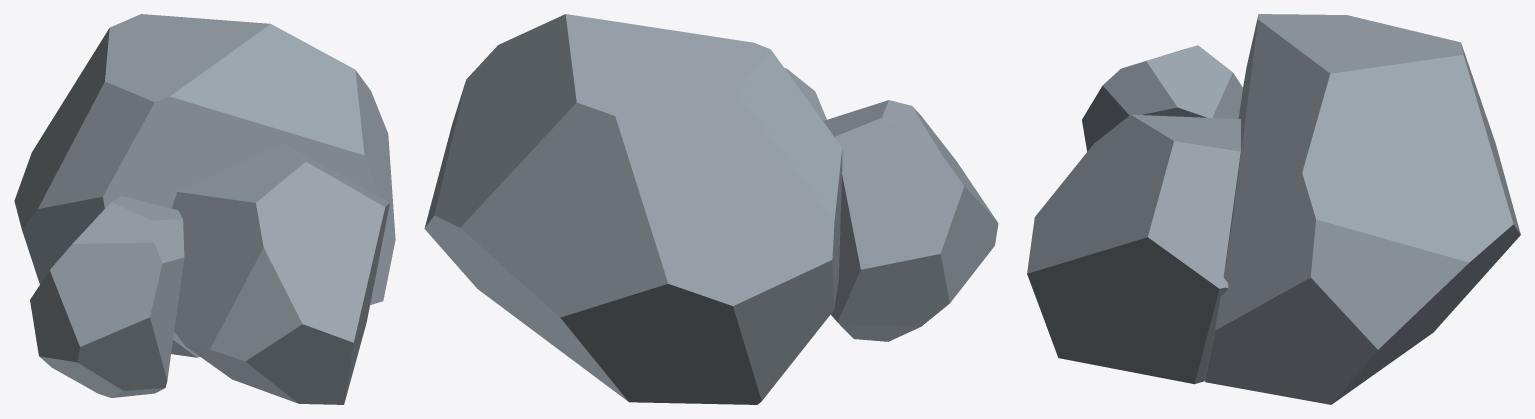
File: Rock1.fbx
3 views of the same model, side by side, from view 1: azimuth 30°, elevation 25°; view 2: azimuth 150°, elevation 25°; view 3: azimuth 270°, elevation 25° (orthographic). The views are drawn at different scales.
Visible parts, largest first — view 1: Rock1; view 2: Rock1; view 3: Rock1.
Part boxes in pixels (x1,y1,x2,y2): Rock1: (14,14,395,404); Rock1: (424,14,998,404); Rock1: (1027,14,1520,404).
Bounding box in the file's own units: 69.75 × 47.85 × 67.99.
